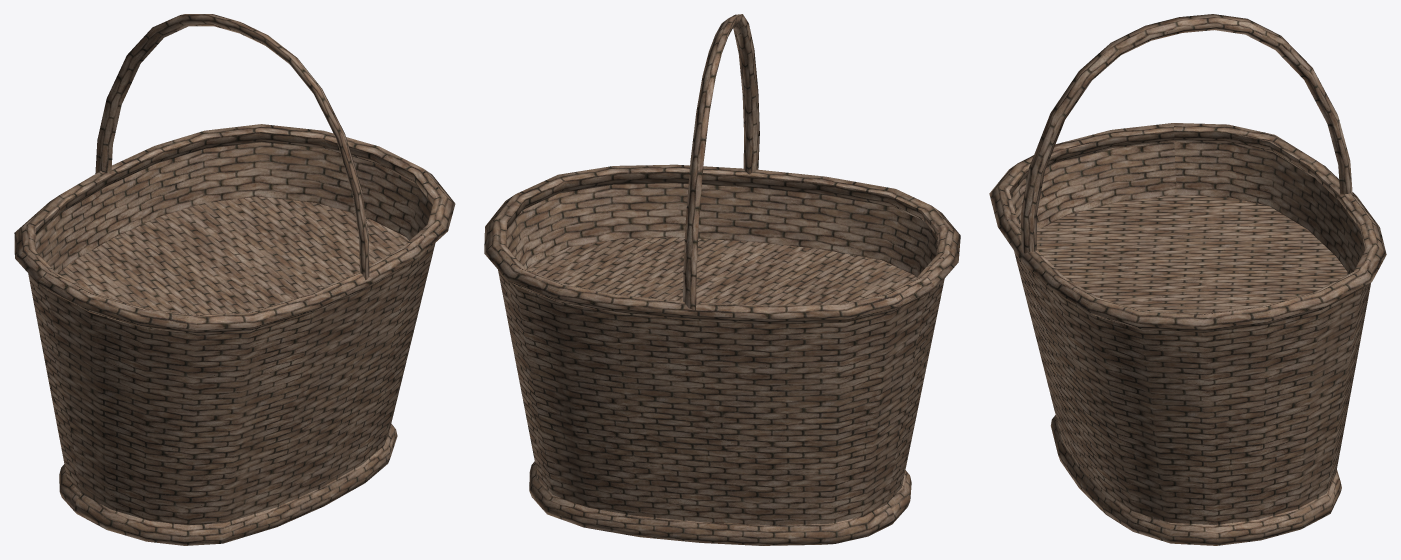
The model's file is Wicker_Basket_02_02.glb.
The picture shows the model from 3 angles, left to right: view 1: azimuth 30°, elevation 25°; view 2: azimuth 150°, elevation 25°; view 3: azimuth 270°, elevation 25°; orthographic projection.
Parts seen in each view (by area): view 1: Wicker_Basket_02_02; view 2: Wicker_Basket_02_02; view 3: Wicker_Basket_02_02.
Part boxes in pixels (box(x1,y1,x2,y2)): Wicker_Basket_02_02: box(14, 14, 455, 545); Wicker_Basket_02_02: box(484, 14, 960, 545); Wicker_Basket_02_02: box(989, 14, 1386, 545).
Bounding box in the file's own units: 0.7131 × 0.7651 × 0.6017.
1 material, 1 textured.
